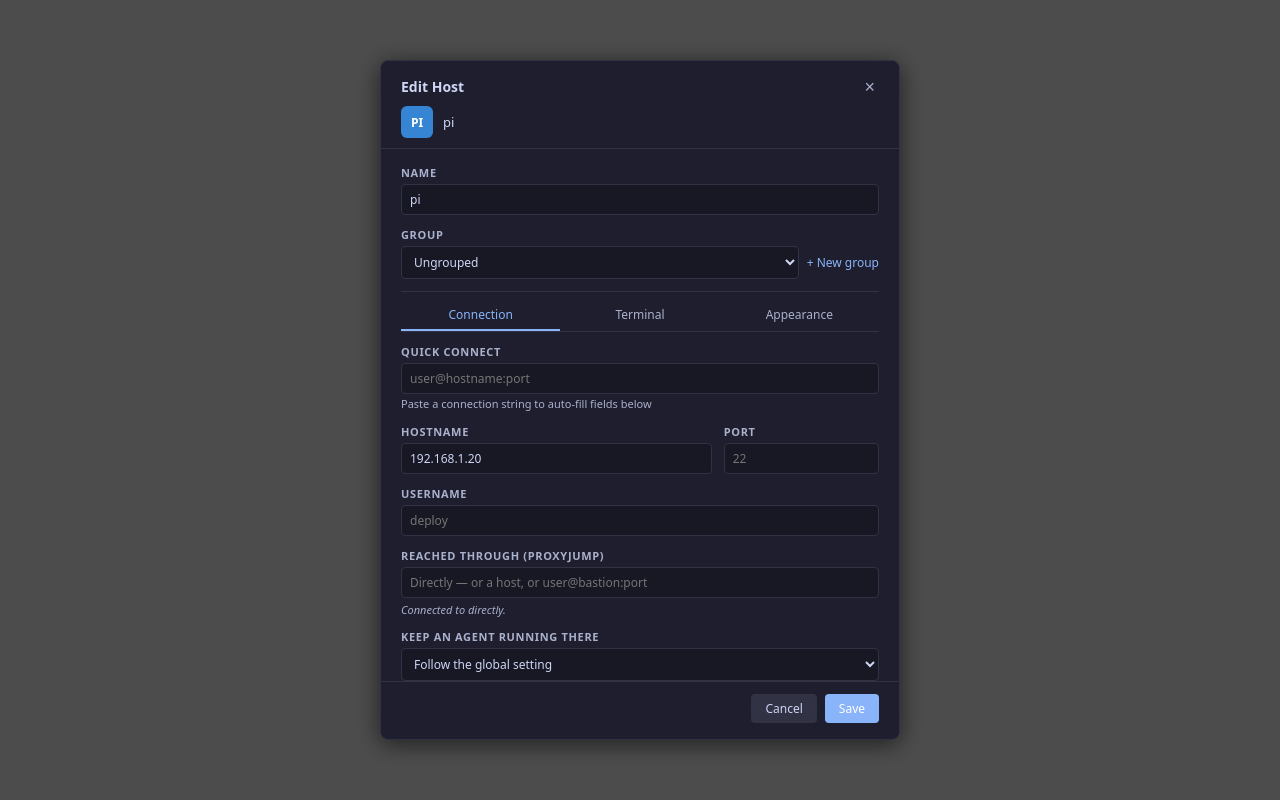
it: HostModal Default Shell: the host's default launch profile (#802) › offers Automatic, with the shell the host's agent reported, and the host's profiles
This screenshot has width=1280, height=800.
Click the tab with id "tab-terminal" at coordinates (640, 316), box [560,300,720,331]
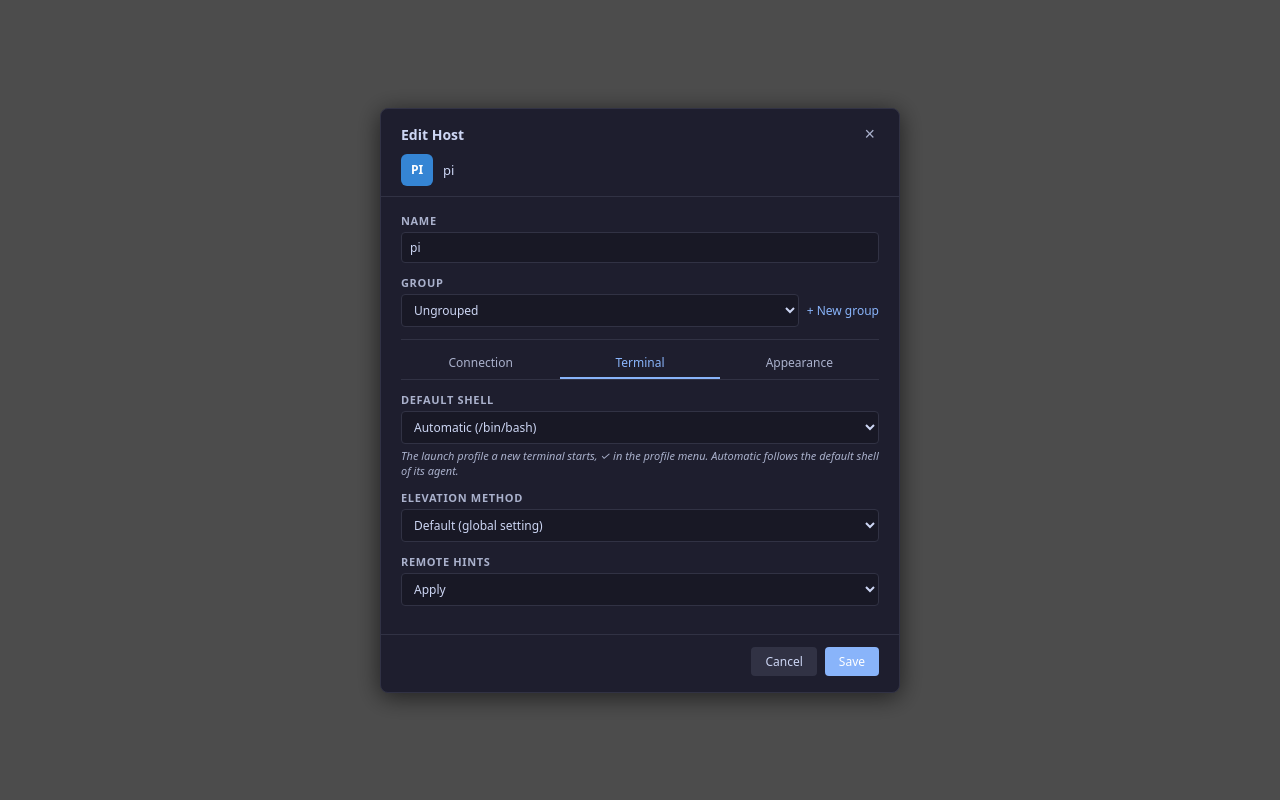
expect the dropdown with id "host-default-shell" shows "Automatic (/bin/bash)": met, box [401,410,879,444]
expect the dropdown with id "host-default-shell" is enabled: met, box [401,410,879,444]
expect the text with class "field-hint" shows "The launch profile a new terminal starts": met, box [401,448,879,478]
